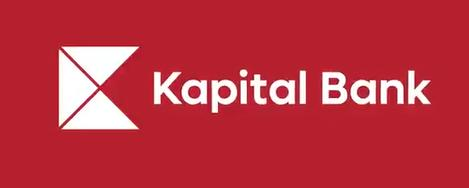Kapital Bank: (53, 40, 142, 131)
